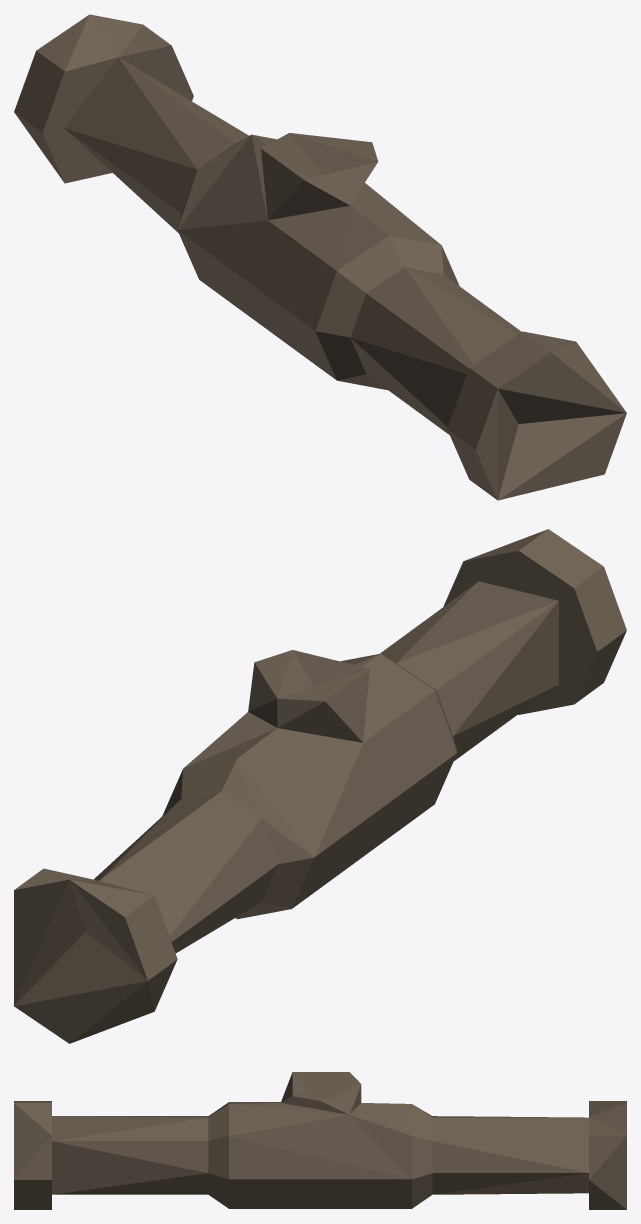
Rendered from ew-pipe-run.lod2.glb.
3 renders of one model, top to bottom at view 1: azimuth 30°, elevation 25°; view 2: azimuth 150°, elevation 25°; view 3: azimuth 270°, elevation 25°, orthographic. The views are drawn at different scales.
Visible parts, largest first — view 1: Object_23; view 2: Object_23; view 3: Object_23.
Boxes of the visible parts, <box> form: Object_23: <box>14,14,626,500</box>; Object_23: <box>14,529,626,1043</box>; Object_23: <box>14,1072,626,1209</box>.
Bounding box in the file's own units: 2.76 × 3.25 × 14.6.
